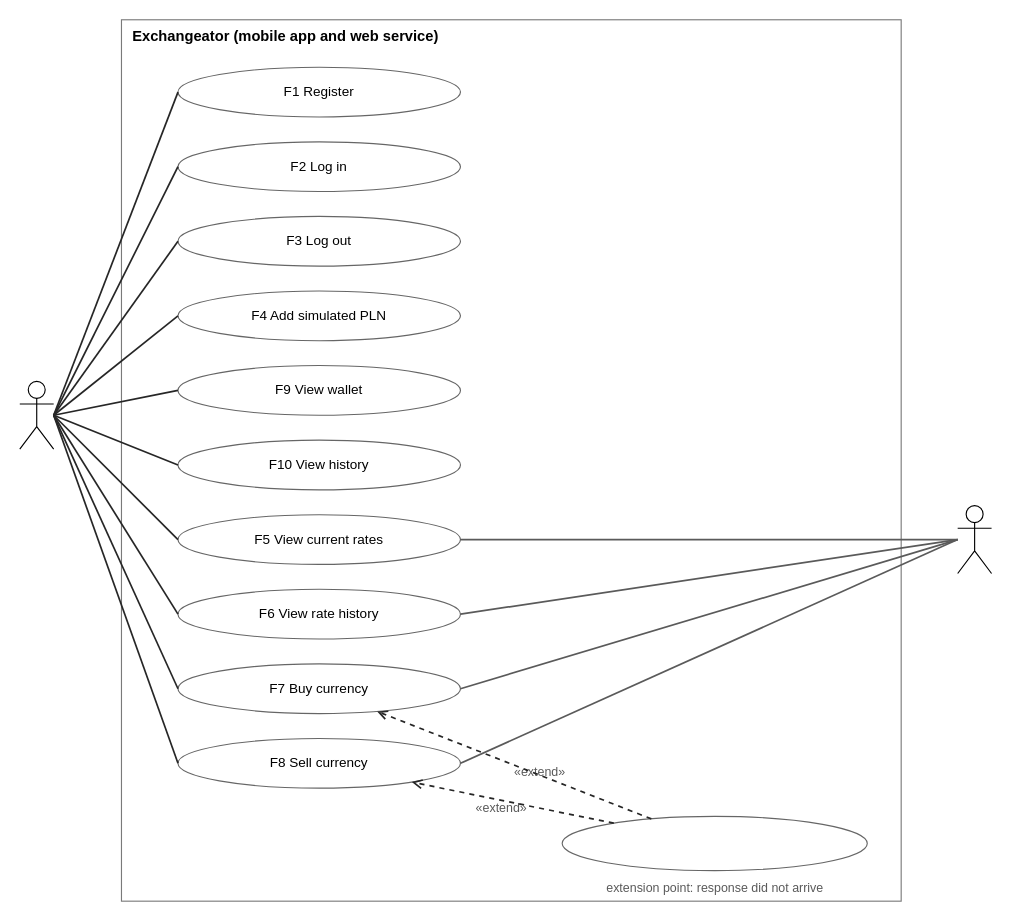
Image size: 1022x921. Some labels were removed from this diagram. Each missing label, with the centre of its shape:
"F11 Check operation status" belongs at (x=714, y=843).
"NBP API" belongs at (x=974, y=539).
"User" belongs at (x=36, y=414).
